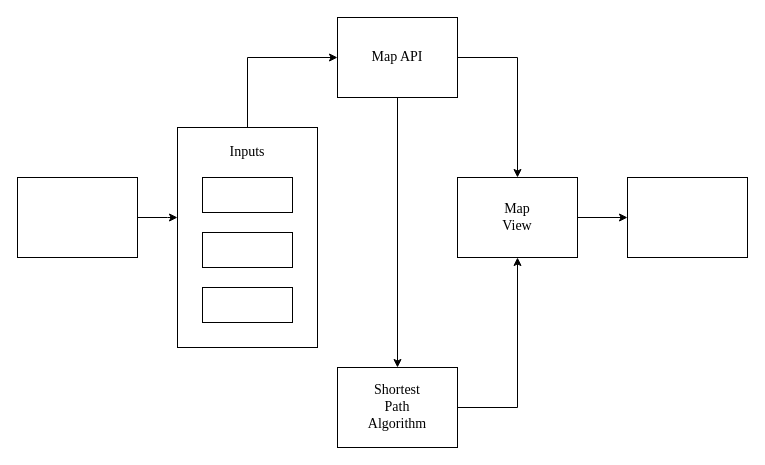
This 765x465 diagram has some shape labels left out. Each missing label, with the centre of its shape:
"Display" goes at point 687,217.
"Log in" goes at point 77,217.
